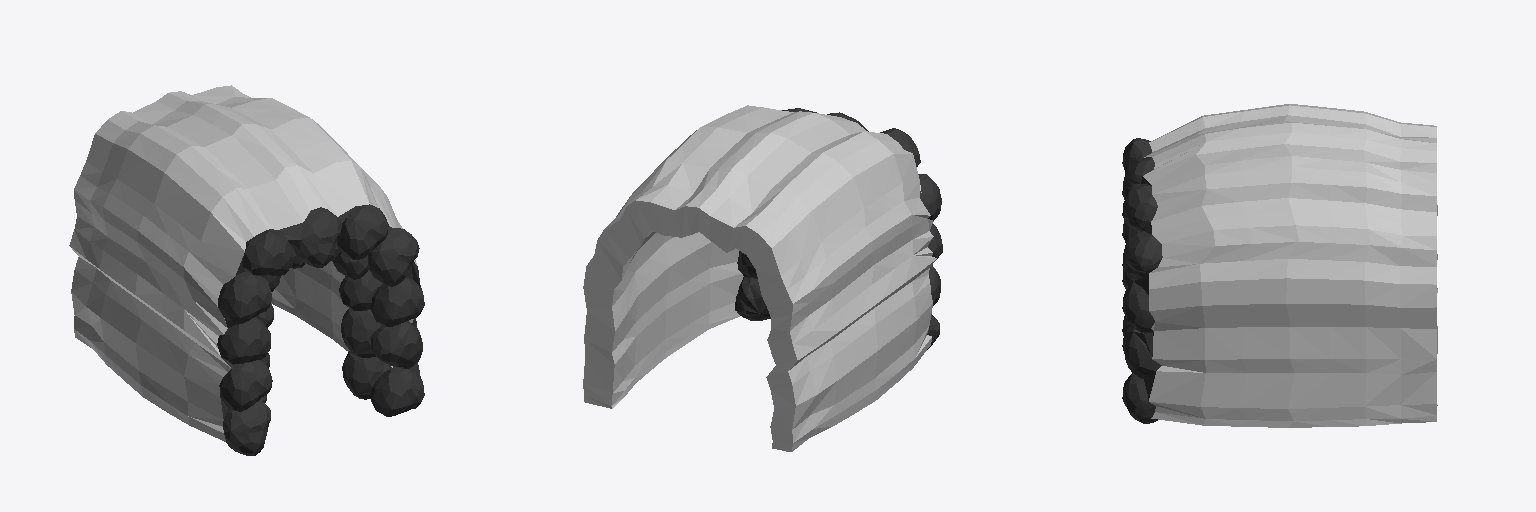
File: cave_entrance_exit.obj
3 views of the same model, side by side, from view 1: azimuth 30°, elevation 25°; view 2: azimuth 150°, elevation 25°; view 3: azimuth 270°, elevation 25° (orthographic).
Parts seen in each view (by area): view 1: Icosphere.020; view 2: Icosphere.020; view 3: Icosphere.020.
Part boxes in pixels (x1,y1,x2,y2): Icosphere.020: (69,85,424,455); Icosphere.020: (583,105,942,451); Icosphere.020: (1122,104,1437,427).
Bounding box in the file's own units: 12.5 × 13.13 × 14.49.